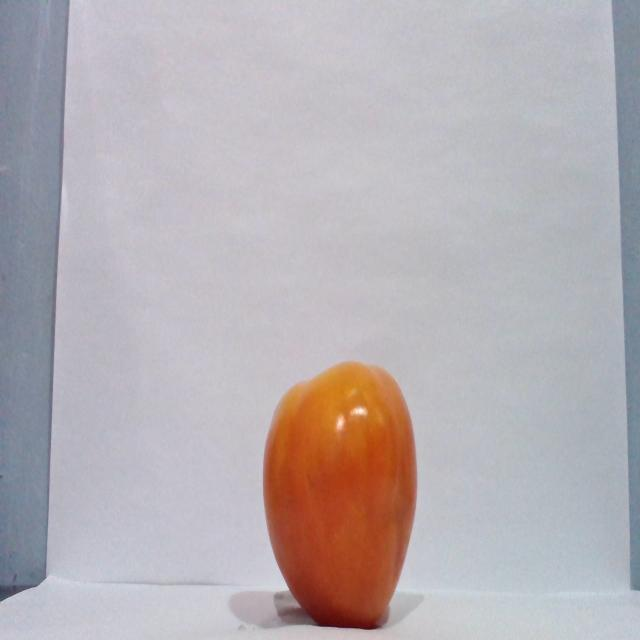Red: (261, 359, 418, 629)
